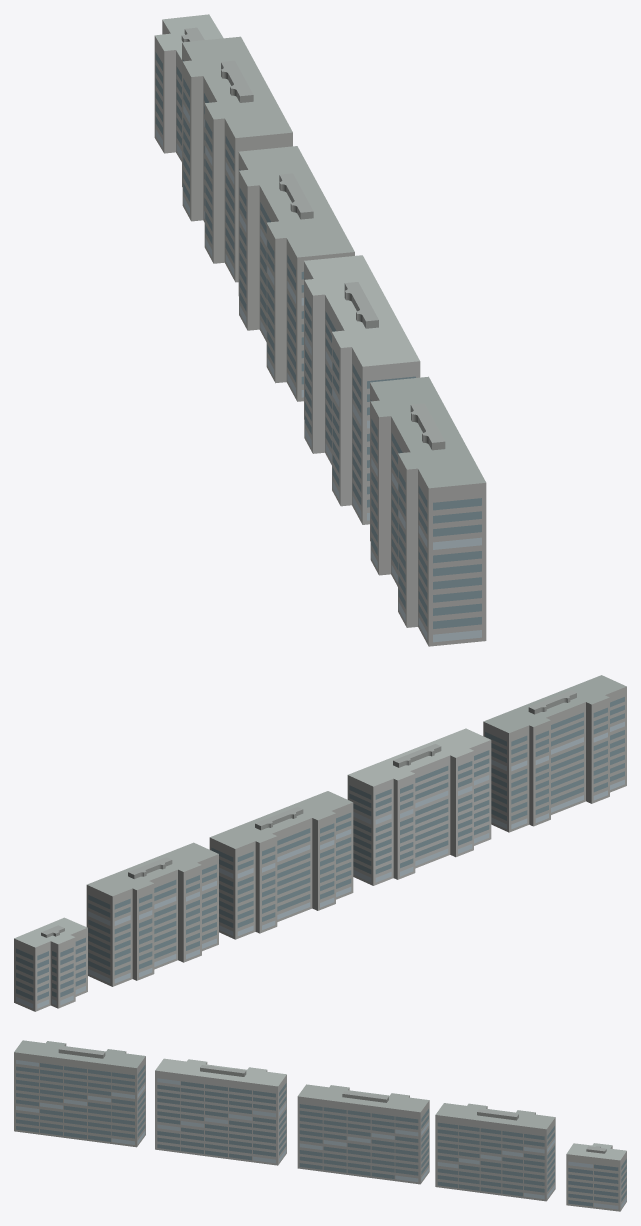
File: apt-a13183701.glb
3 views of the same model, one above another, from view 1: azimuth 30°, elevation 25°; view 2: azimuth 150°, elevation 25°; view 3: azimuth 270°, elevation 25° (orthographic). The views are drawn at different scales.
Visible parts, largest first — view 1: apt-a13183701; view 2: apt-a13183701; view 3: apt-a13183701.
Part boxes in pixels (x1,y1,x2,y2): apt-a13183701: (154,14,486,646); apt-a13183701: (14,675,626,1011); apt-a13183701: (14,1040,626,1211).
Bounding box in the file's own units: 81.21 × 34 × 228.
